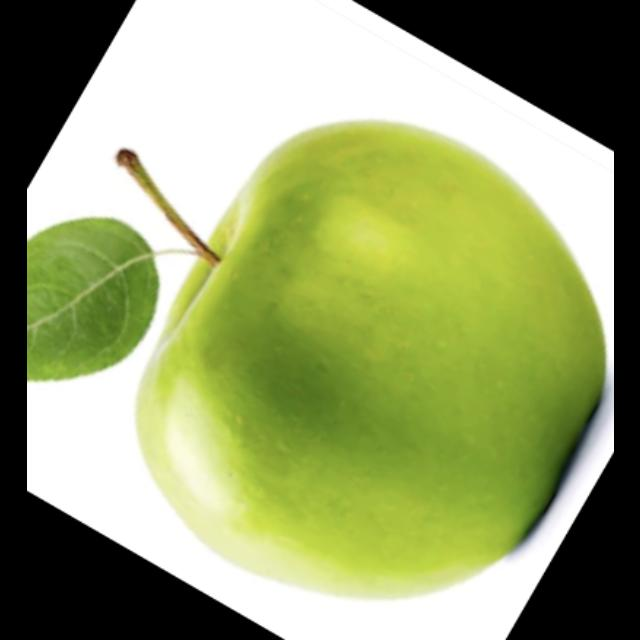Apel Segar: (132, 120, 604, 592)
